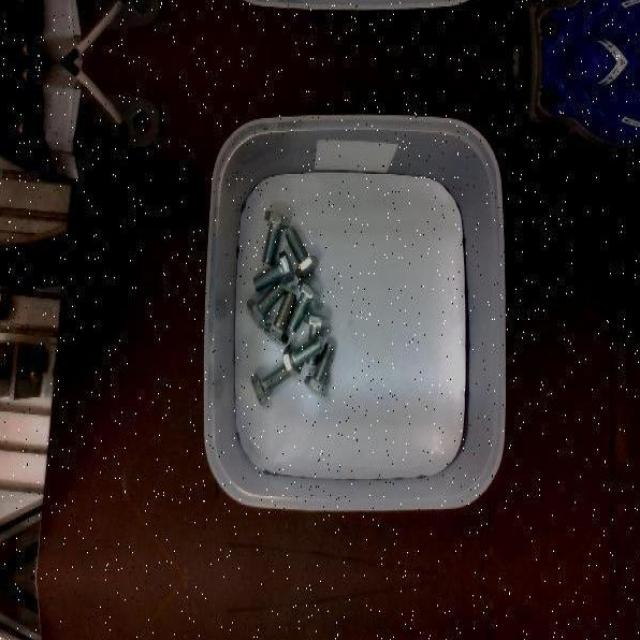screw: (246, 280, 284, 329), (284, 227, 319, 280), (282, 335, 324, 378), (252, 249, 294, 291), (263, 290, 295, 344), (303, 342, 335, 396), (287, 280, 320, 332), (261, 210, 289, 266)
